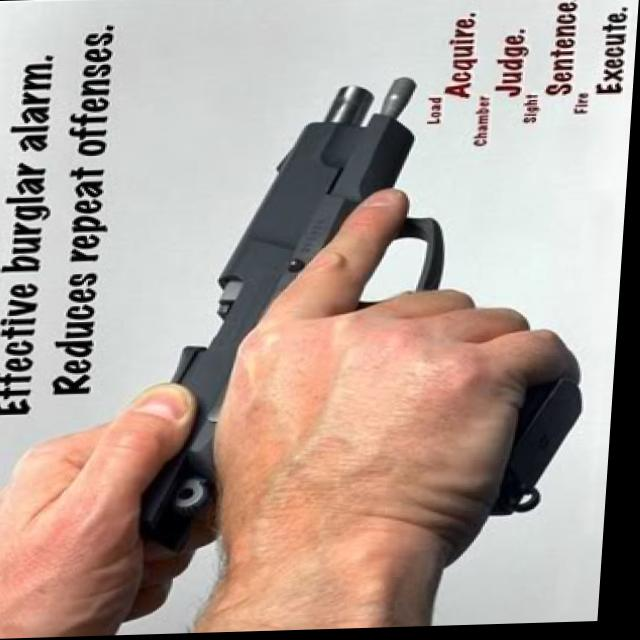handgun: (114, 77, 601, 557)
